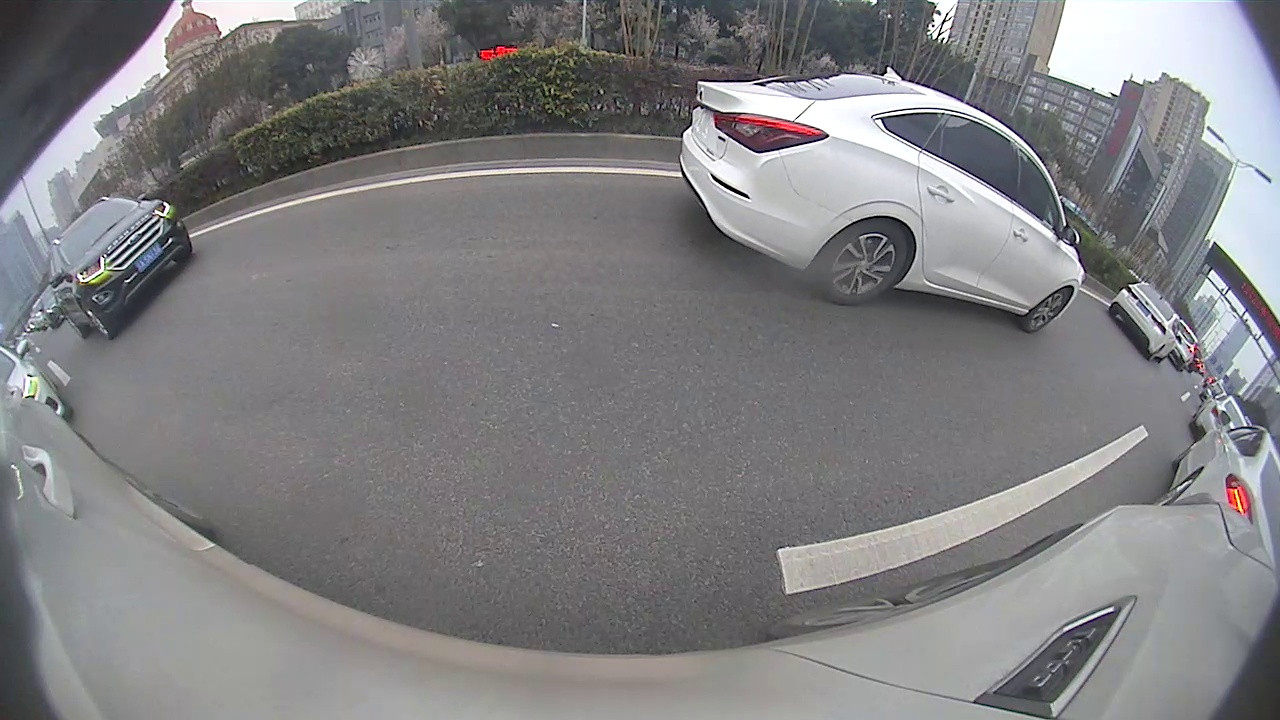car: (679, 67, 1089, 335), (45, 193, 191, 342), (1150, 407, 1278, 544), (1108, 280, 1186, 365)
front: (1024, 287, 1075, 332), (83, 302, 113, 341)
rear: (812, 217, 910, 307)
